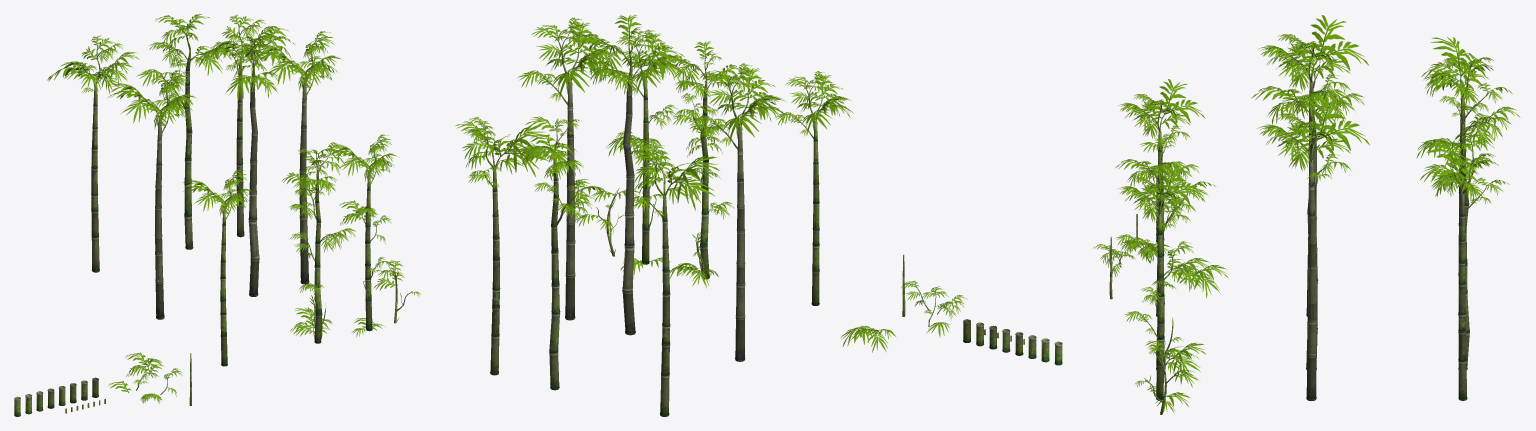
The model's file is bamboo.glb.
3 renders of one model, left to right at view 1: azimuth 30°, elevation 25°; view 2: azimuth 150°, elevation 25°; view 3: azimuth 270°, elevation 25°, orthographic. The views are drawn at different scales.
Visible parts, largest first — view 1: bambooBlock_016_13, bambooBlock_010_19, bambooBlock_013_16, bambooBlock_011_18, bambooBlock_009_20, bambooBlock_014_15, bambooBlock_015_14, bambooBlock_012_17, bambooBlock_008_21, bambooBranch_008_4, bambooBranch_020_0; view 2: bambooBlock_010_19, bambooBlock_011_18, bambooBlock_009_20, bambooBlock_016_13, bambooBlock_014_15, bambooBlock_013_16, bambooBlock_012_17, bambooBlock_015_14, bambooBlock_008_21, bambooBranch_008_4, bambooBranch_020_0; view 3: bambooBlock_009_20, bambooBlock_015_14, bambooBlock_016_13, bambooBlock_012_17, bambooBlock_011_18, bambooBlock_010_19, bambooBlock_013_16, bambooBlock_014_15, bambooBlock_008_21, bambooBranch_008_4, bambooBranch_020_0.
Boxes of the visible parts, left/top/right/bottom form: bambooBlock_016_13: left=282, top=142, right=356, bottom=343; bambooBlock_010_19: left=225, top=26, right=295, bottom=296; bambooBlock_013_16: left=136, top=14, right=231, bottom=249; bambooBlock_011_18: left=106, top=70, right=196, bottom=319; bambooBlock_009_20: left=250, top=31, right=341, bottom=284; bambooBlock_014_15: left=47, top=35, right=139, bottom=272; bambooBlock_015_14: left=327, top=134, right=397, bottom=336; bambooBlock_012_17: left=198, top=14, right=279, bottom=237; bambooBlock_008_21: left=182, top=170, right=252, bottom=366; bambooBranch_008_4: left=374, top=260, right=420, bottom=323; bambooBranch_020_0: left=125, top=352, right=164, bottom=377; bambooBlock_010_19: left=566, top=14, right=685, bottom=335; bambooBlock_011_18: left=688, top=63, right=788, bottom=361; bambooBlock_009_20: left=517, top=17, right=615, bottom=320; bambooBlock_016_13: left=658, top=41, right=744, bottom=288; bambooBlock_014_15: left=629, top=139, right=719, bottom=416; bambooBlock_013_16: left=518, top=116, right=610, bottom=390; bambooBlock_012_17: left=455, top=117, right=550, bottom=375; bambooBlock_015_14: left=606, top=29, right=681, bottom=274; bambooBlock_008_21: left=775, top=71, right=853, bottom=305; bambooBranch_008_4: left=575, top=188, right=639, bottom=256; bambooBranch_020_0: left=840, top=325, right=895, bottom=352; bambooBlock_009_20: left=1257, top=96, right=1369, bottom=400; bambooBlock_015_14: left=1118, top=162, right=1211, bottom=413; bambooBlock_016_13: left=1115, top=133, right=1216, bottom=380; bambooBlock_012_17: left=1419, top=139, right=1509, bottom=400; bambooBlock_011_18: left=1259, top=15, right=1369, bottom=316; bambooBlock_010_19: left=1251, top=52, right=1364, bottom=369; bambooBlock_013_16: left=1416, top=95, right=1520, bottom=369; bambooBlock_014_15: left=1421, top=37, right=1512, bottom=315; bambooBlock_008_21: left=1118, top=79, right=1205, bottom=316; bambooBranch_008_4: left=1135, top=340, right=1198, bottom=414; bambooBranch_020_0: left=1179, top=265, right=1228, bottom=298.
Bounding box in the file's own units: 72.67 × 47.04 × 56.86.
5 materials, 5 textured.
